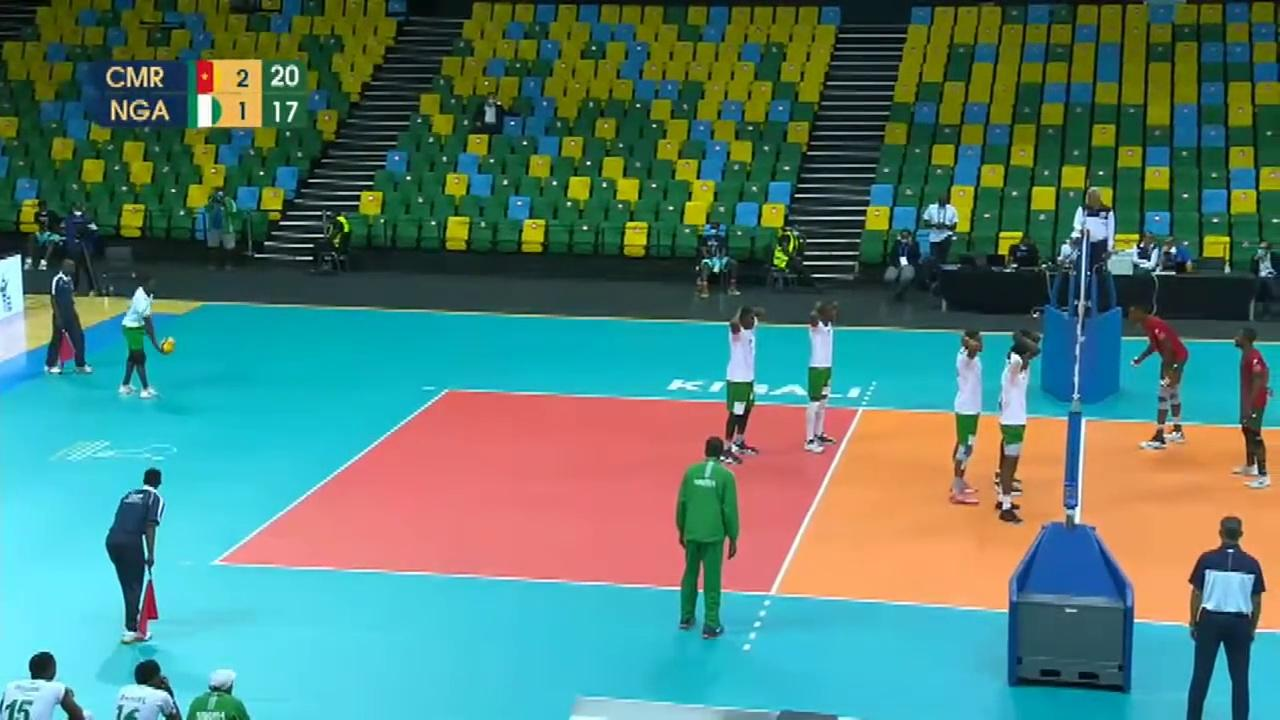player: (1126, 294, 1188, 447), (944, 318, 986, 514), (798, 290, 847, 457), (717, 299, 764, 461), (1004, 324, 1045, 491), (994, 347, 1031, 523), (1233, 329, 1275, 484), (119, 277, 164, 396)
refree: (1184, 518, 1265, 719), (105, 470, 166, 640), (1064, 183, 1119, 303), (47, 260, 89, 373)
